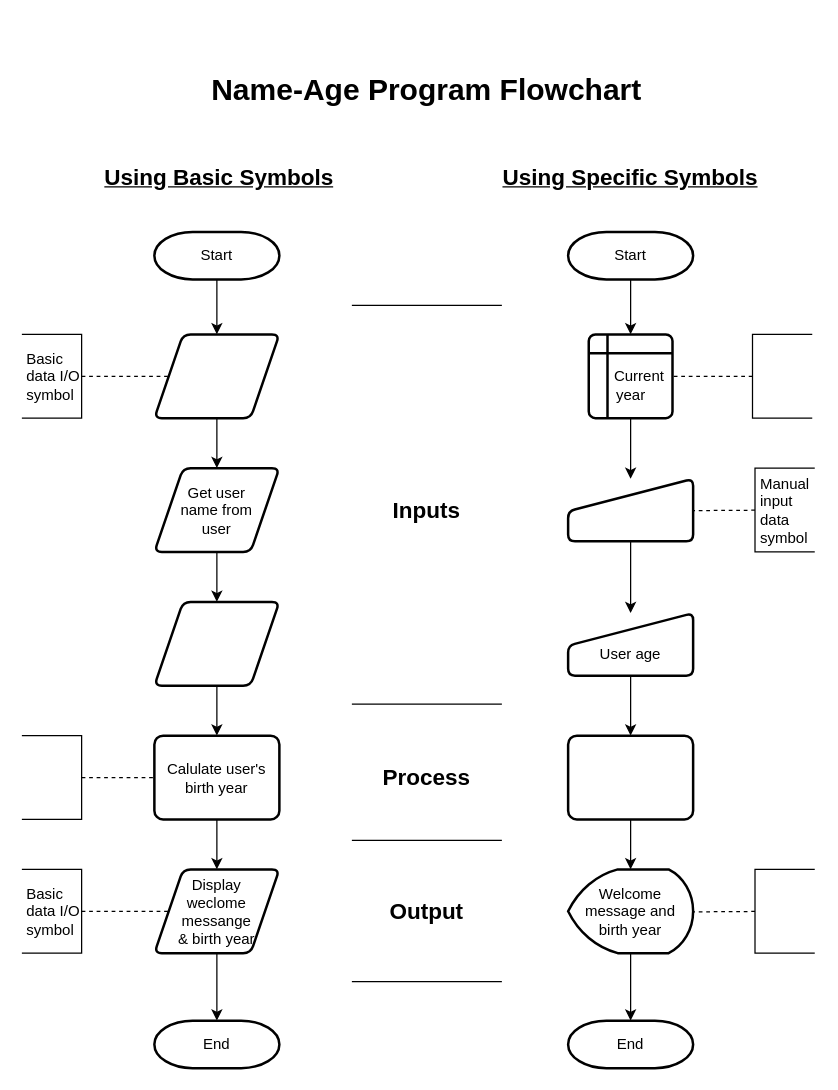
This 838x1090 diagram has some shape labels left out. Each missing label, with the box of its shape:
Basic process symbol: (21, 734, 82, 819)
Calculate user's birth year: (566, 734, 694, 820)
Display output data symbol: (754, 868, 815, 953)
Get current year from system: (152, 332, 280, 419)
Get user age from user: (152, 600, 280, 686)
Internal storage data symbol: (751, 333, 812, 418)
User name: (566, 477, 694, 542)
